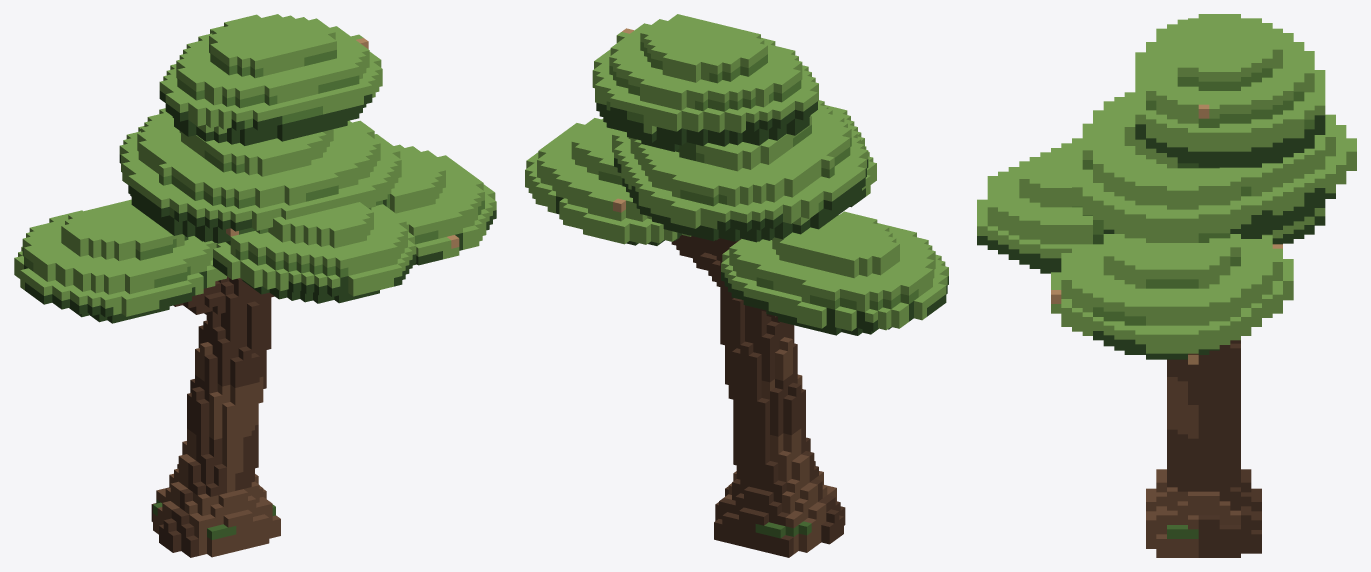
File: Mountain_Oak_v3_C.fbx
3 views of the same model, side by side, from view 1: azimuth 30°, elevation 25°; view 2: azimuth 150°, elevation 25°; view 3: azimuth 270°, elevation 25° (orthographic). The views are drawn at different scales.
Visible parts, largest first — view 1: Mountain_Oak_v3_C; view 2: Mountain_Oak_v3_C; view 3: Mountain_Oak_v3_C.
Boxes of the visible parts, box(x1,y1,x2,y2) form: Mountain_Oak_v3_C: box(14, 14, 496, 557); Mountain_Oak_v3_C: box(525, 14, 948, 557); Mountain_Oak_v3_C: box(977, 14, 1356, 557).
Size of the model in its own units: 3.4 by 3.67 by 2.4.
1 material, 1 textured.
